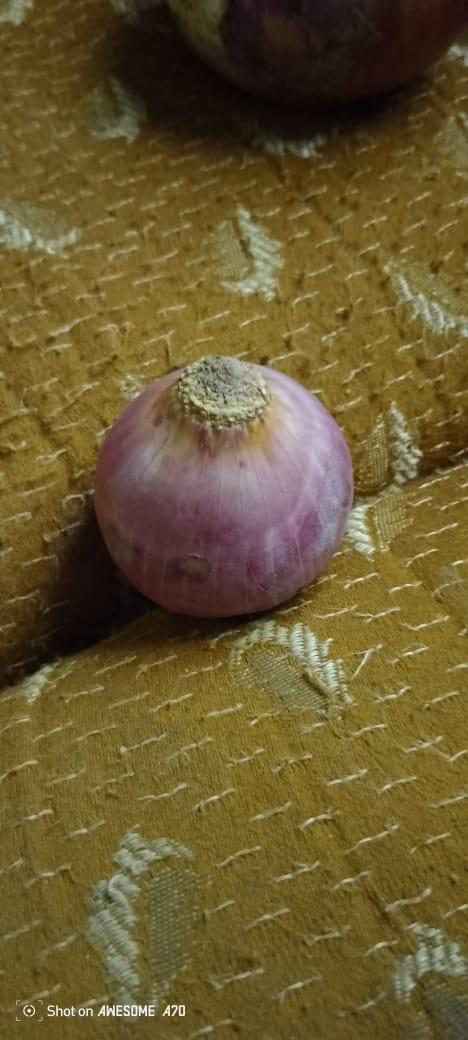non-mango: (93, 361, 369, 632)
